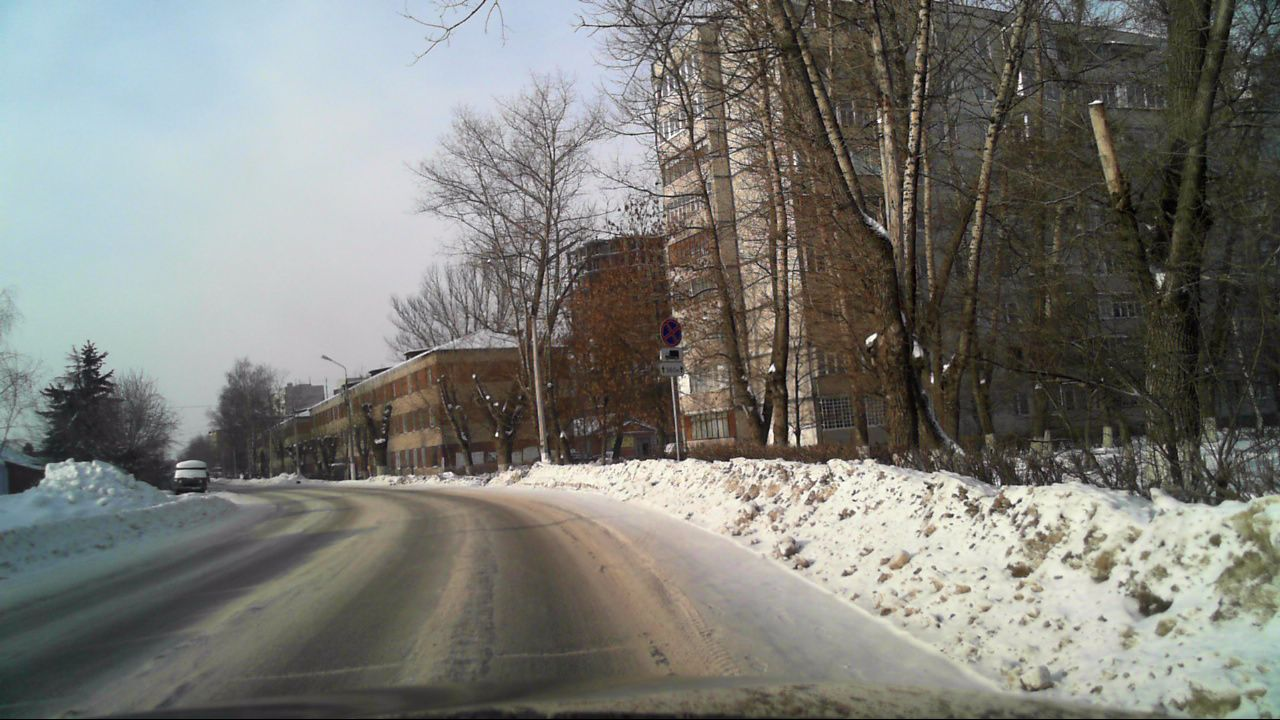No Parking: (660, 318, 681, 346)
